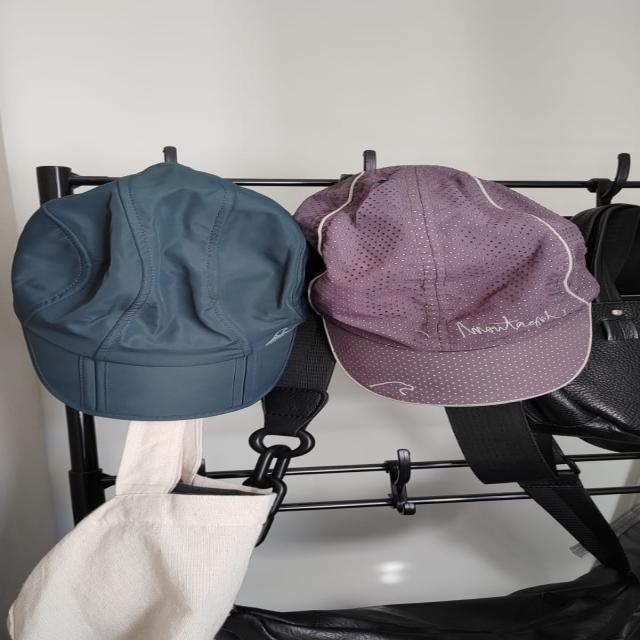Gorra: (272, 160, 614, 412), (7, 160, 320, 426)
